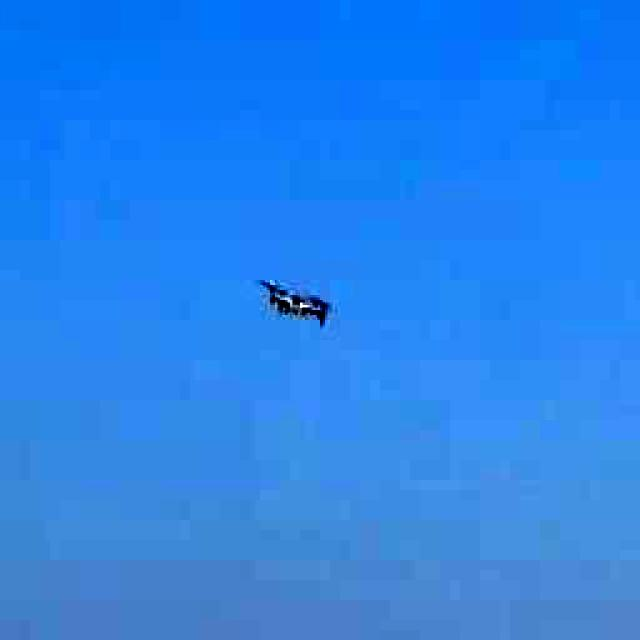bird: (234, 239, 356, 364)
